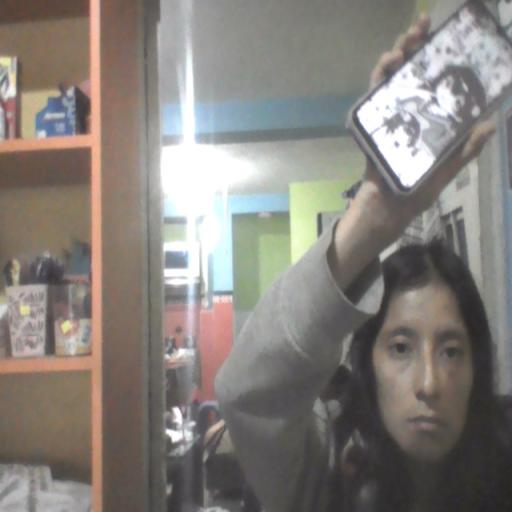phone: (343, 0, 512, 201)
